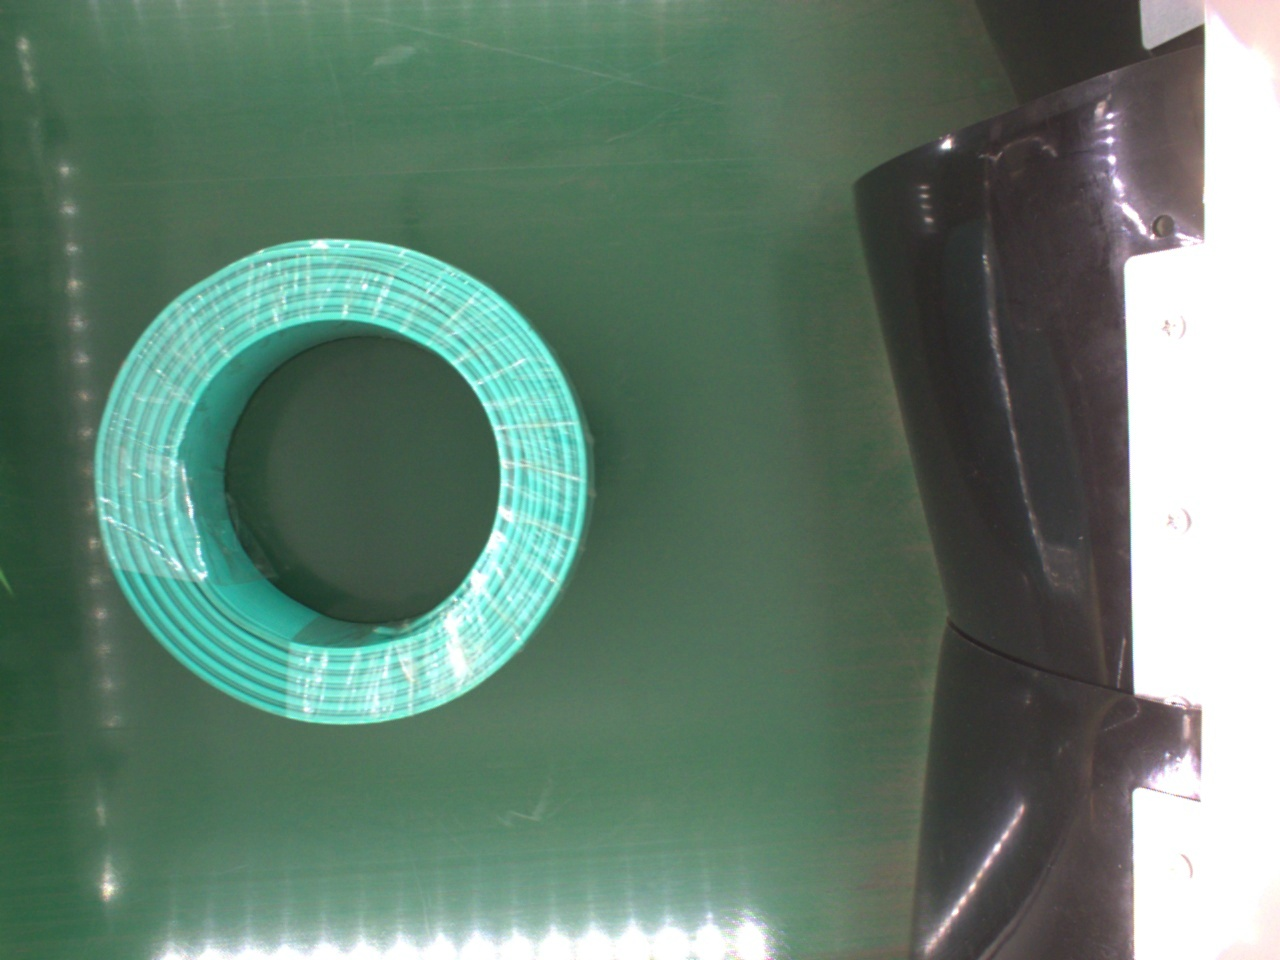green: (82, 238, 584, 726)
